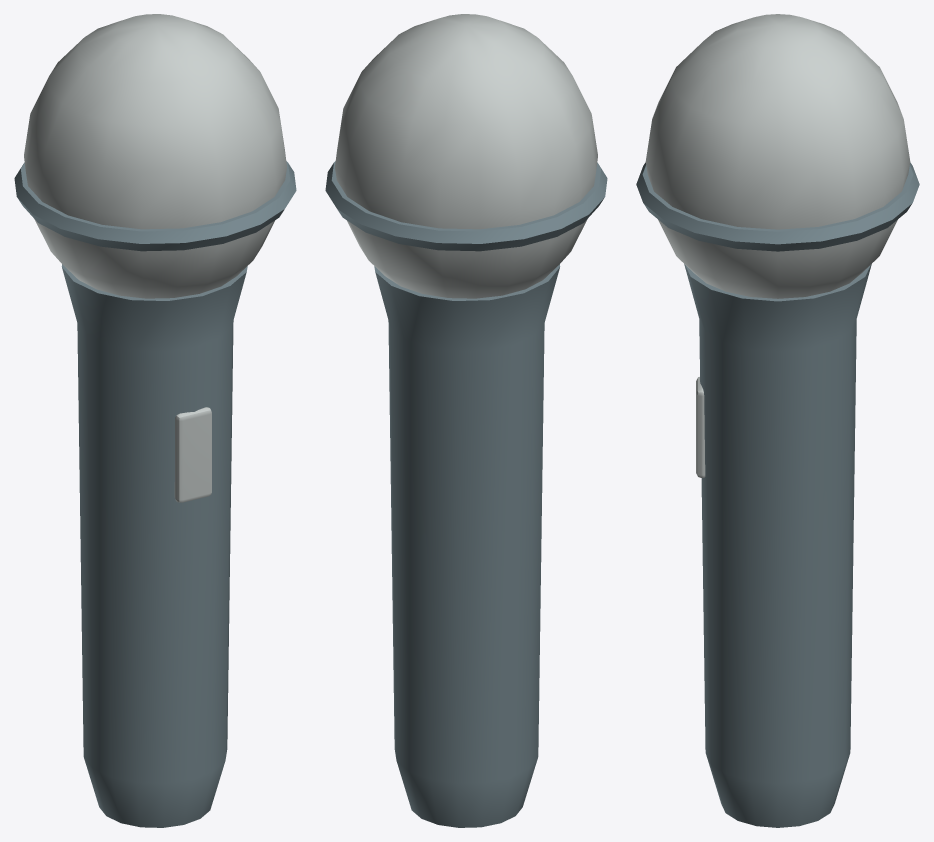
File: microphone.glb
The picture shows the model from 3 angles, left to right: view 1: azimuth 30°, elevation 25°; view 2: azimuth 150°, elevation 25°; view 3: azimuth 270°, elevation 25°; orthographic projection.
Parts seen in each view (by area): view 1: handle, grille, grille_band, switch; view 2: handle, grille, grille_band; view 3: handle, grille, grille_band, switch.
Part boxes in pixels (x1=…): handle: x1=61, y1=264, x2=247, y2=827; grille: x1=24, y1=14, x2=286, y2=298; grille_band: x1=14, y1=161, x2=296, y2=251; switch: x1=174, y1=407, x2=211, y2=502; handle: x1=374, y1=264, x2=560, y2=827; grille: x1=335, y1=14, x2=597, y2=298; grille_band: x1=325, y1=161, x2=607, y2=251; handle: x1=684, y1=264, x2=871, y2=827; grille: x1=645, y1=14, x2=910, y2=298; grille_band: x1=636, y1=162, x2=919, y2=251; switch: x1=696, y1=377, x2=705, y2=477.
Size of the model in its own units: 0.09 by 0.273 by 0.09.
